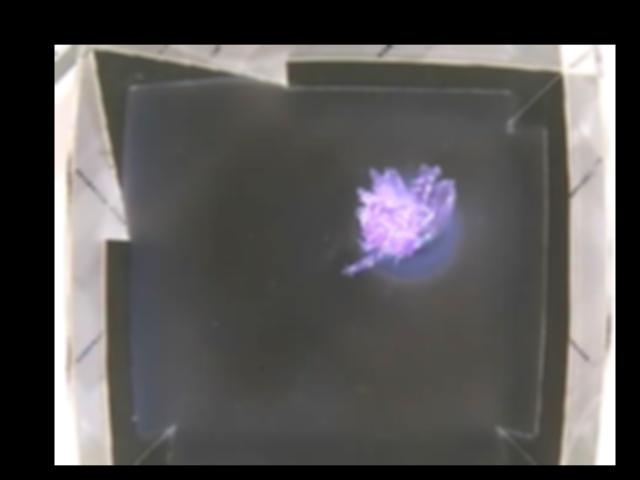Mooli: (341, 162, 455, 282)
